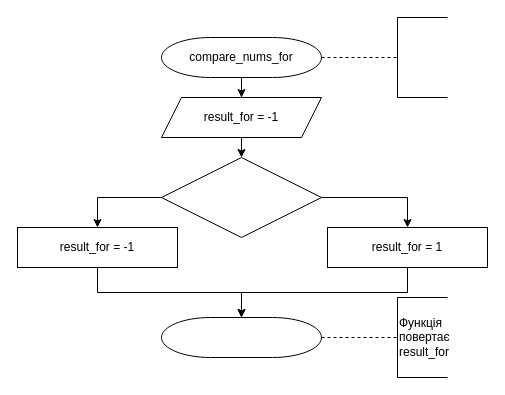
The diagram is 505 pixels wide and 395 high, and some of its shapes have lost their labels. The shapes that lost their labels are listed below. From the top down, each one's centre as x and y in pixels, then its label:
[422,57]: Функція приймає sum_half1 та sum_half2
[241,197]: sum_half1 = sum_half2
[241,337]: Кінець
